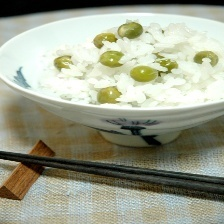rice: (19, 19, 224, 110)
